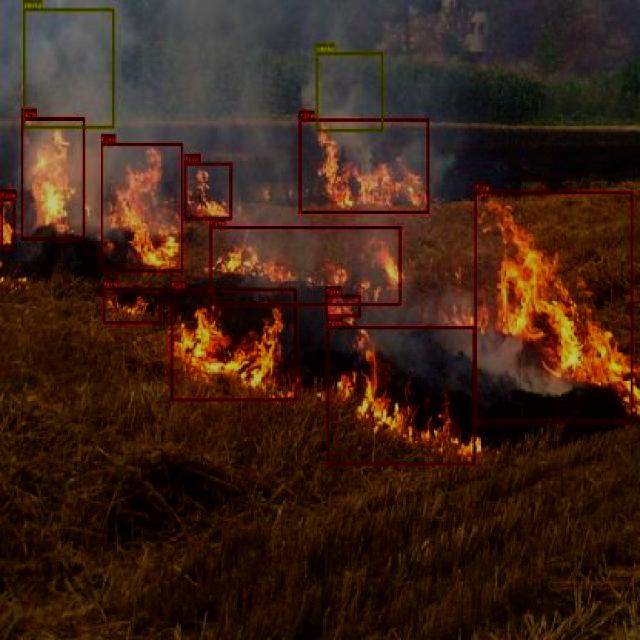fire: (473, 192, 632, 422), (327, 326, 475, 464), (210, 226, 401, 305), (170, 288, 296, 401), (298, 119, 429, 212), (100, 142, 182, 272), (21, 118, 84, 239), (184, 162, 232, 218), (102, 288, 160, 324), (324, 294, 360, 317), (1, 198, 14, 247)
smoke: (23, 8, 114, 128), (316, 52, 382, 132)
